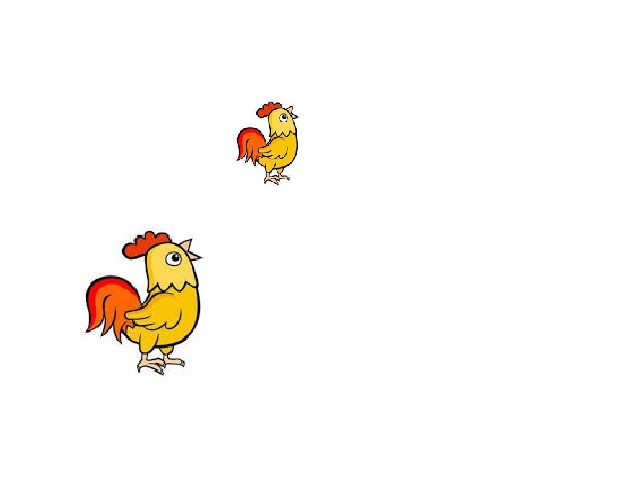crown: (113, 231, 181, 258), (255, 104, 280, 112)
eyes: (165, 251, 184, 265), (280, 114, 290, 127)
feet: (134, 351, 190, 376), (264, 172, 291, 184)
tail: (86, 273, 138, 337), (233, 128, 268, 161)
